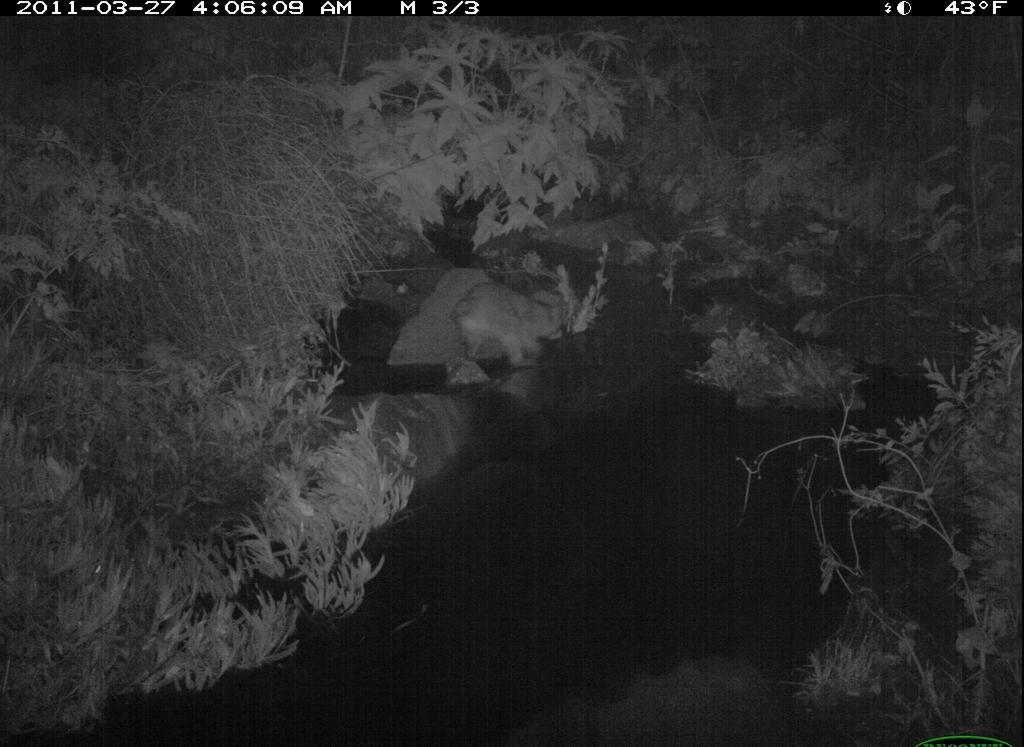raccoon: (442, 277, 578, 377)
